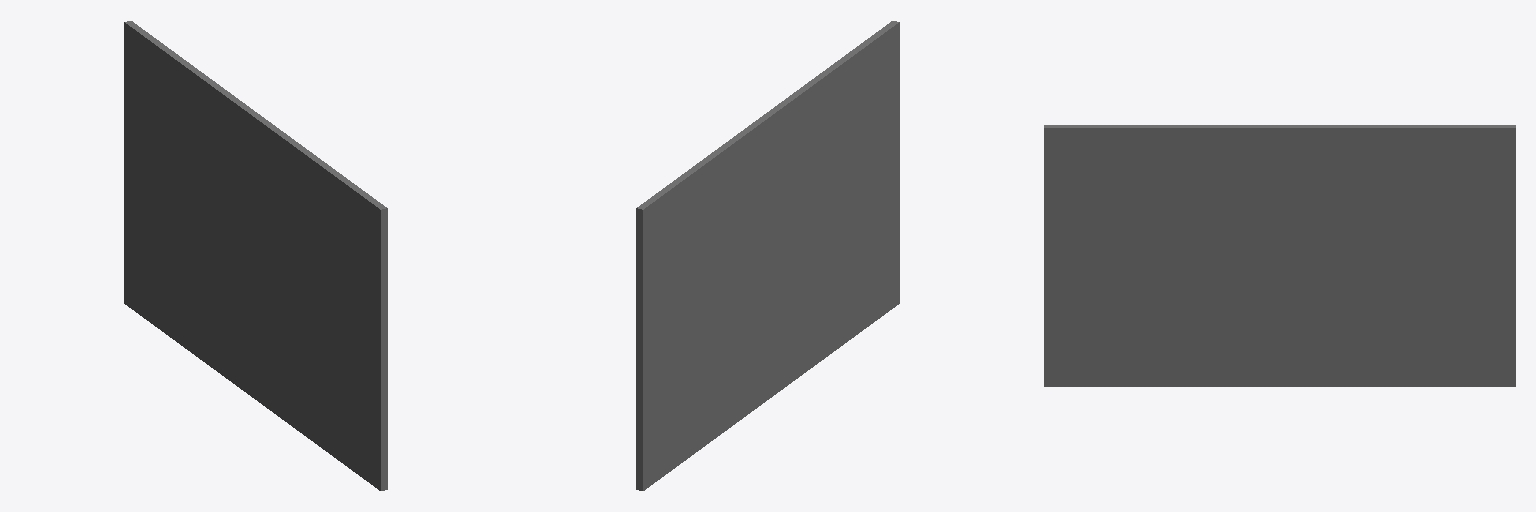
The robot description file, URDF, robot "slab4":
<robot name="slab4">
  <link name="slab4">

    <inertial>
      <origin xyz="0 0 0" />
      <mass value="0.1" />
      <inertia  ixx="0.00003375" ixy="0.0"  ixz="0.0"  iyy="0.00003375"  iyz="0.0"  izz="0.00003375" />
    </inertial>

    <visual>
      <origin xyz="0 0 0"/>
      <geometry>
        <box size="0.005 0.33 0.2" />
      </geometry>
      <material name="white">
        <color rgba="0.5 0.5 0.5 1.0"/>
      </material>
    </visual>

    <collision>
      <origin xyz="0 0 0"/>
      <geometry>
        <box size="0.005 0.33 0.2" />
      </geometry>
    </collision>
  </link>
</robot>

--- Facts derived from the render (not from the file) ---
The picture shows the robot from 3 angles, left to right: view 1: azimuth 30°, elevation 25°; view 2: azimuth 150°, elevation 25°; view 3: azimuth 270°, elevation 25°; orthographic projection.
Robot: slab4 — 1 links, 0 joints (none); root link slab4; default pose: all joints at 0.
Links seen in each view (by area): view 1: slab4; view 2: slab4; view 3: slab4.
Boxes of the visible links, x1,y1,x2,y2 form: slab4: [124, 21, 387, 490]; slab4: [636, 21, 899, 490]; slab4: [1044, 125, 1515, 386].
Size in the robot's own frame: 0.005 by 0.33 by 0.2 metres.
Geometry: primitives only (box / cylinder / sphere), no mesh files.